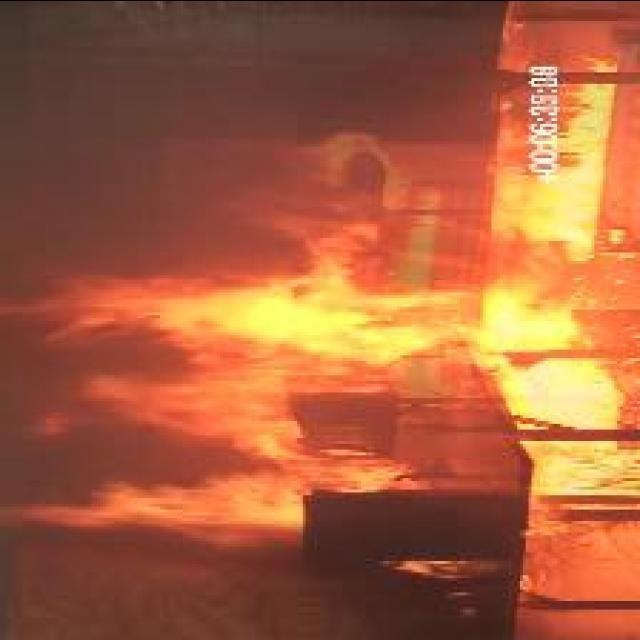Fire: (3, 60, 640, 534)
